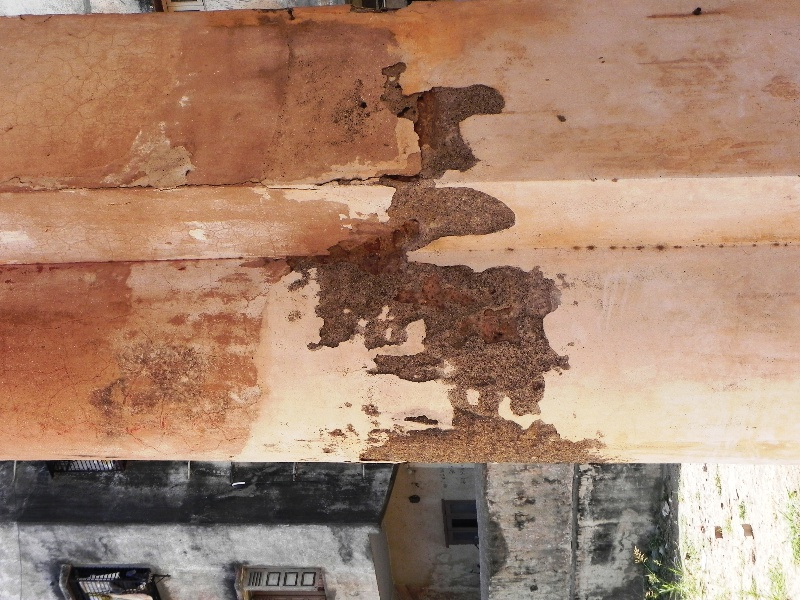Spalling: (269, 255, 618, 468), (331, 55, 526, 257)
